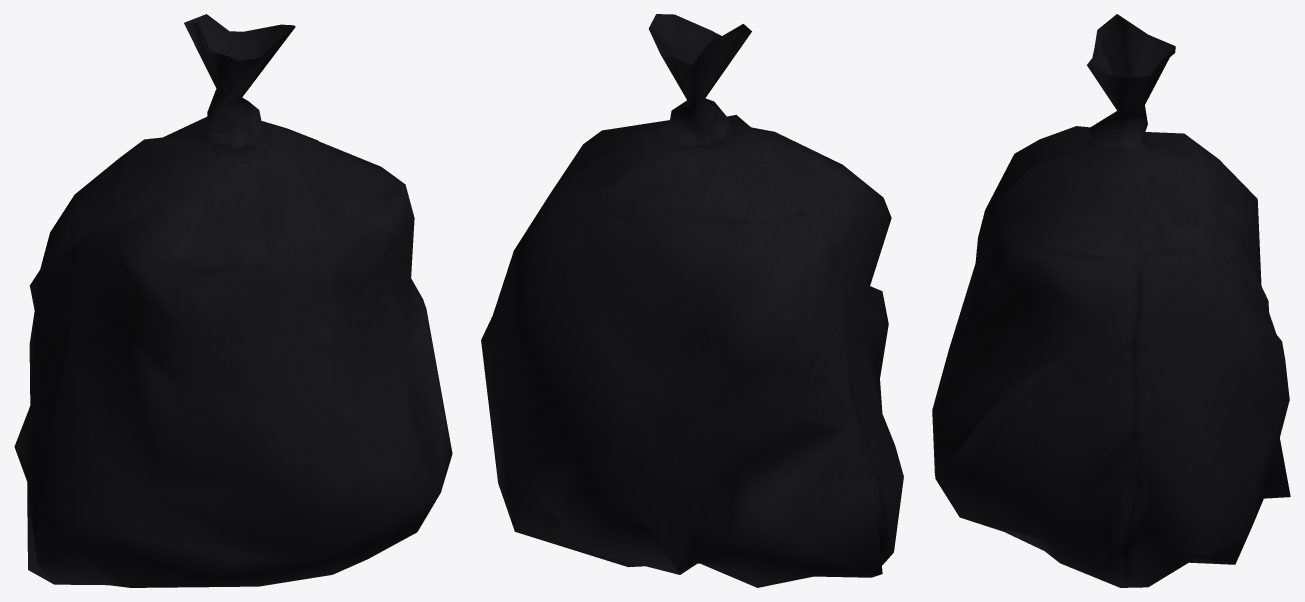
File: Garbage_Bag.fbx
3 views of the same model, side by side, from view 1: azimuth 30°, elevation 25°; view 2: azimuth 150°, elevation 25°; view 3: azimuth 270°, elevation 25° (orthographic). The views are drawn at different scales.
Visible parts, largest first — view 1: Garbage_Bag_LOD0; view 2: Garbage_Bag_LOD0; view 3: Garbage_Bag_LOD0.
Boxes of the visible parts, box(x1,y1,x2,y2) form: Garbage_Bag_LOD0: box(14, 14, 452, 587); Garbage_Bag_LOD0: box(481, 14, 903, 587); Garbage_Bag_LOD0: box(932, 14, 1290, 587).
Size of what is drawn, in the model's own units: 71.19 by 94.3 by 61.18.
